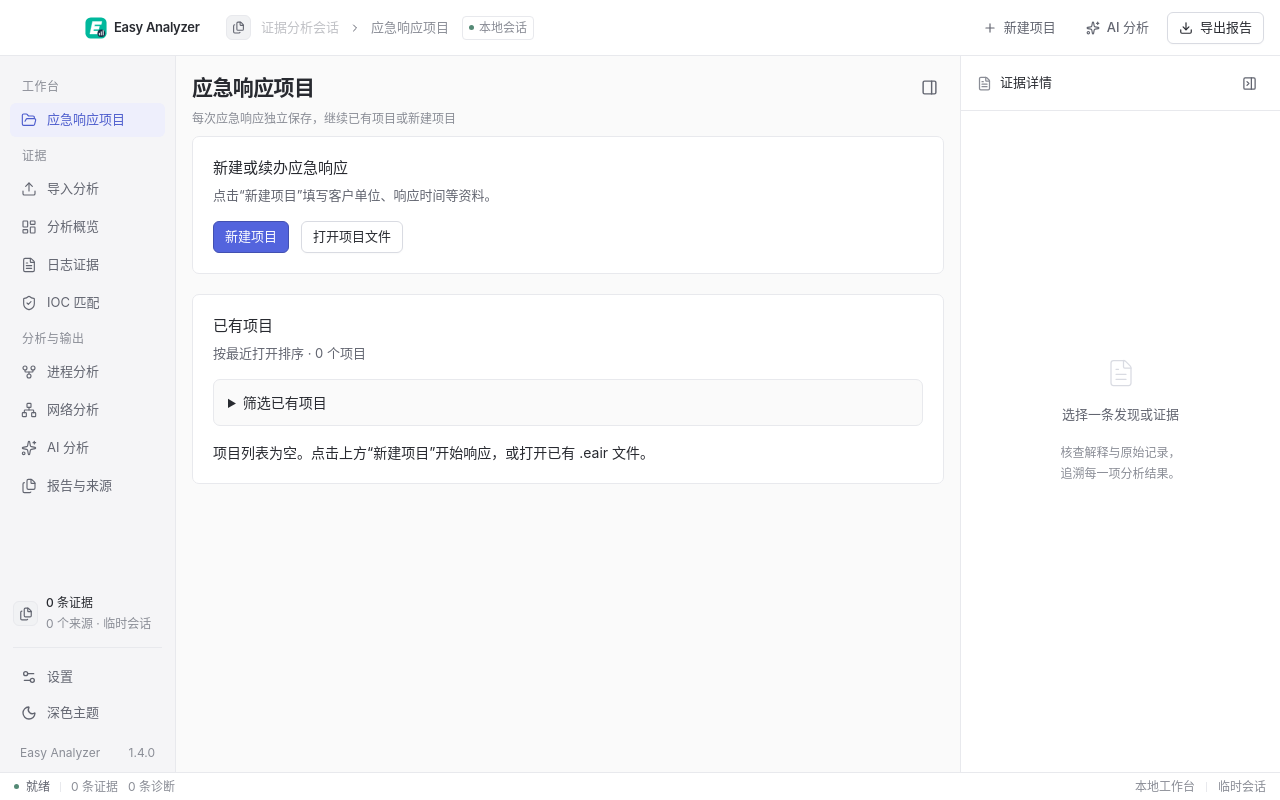
Scenario: shows the local recap after partial AI failure as escaped text without sending again
Click the button "AI 分析" below "分析与输出".
click(88, 448)  # box [10,431,165,465]
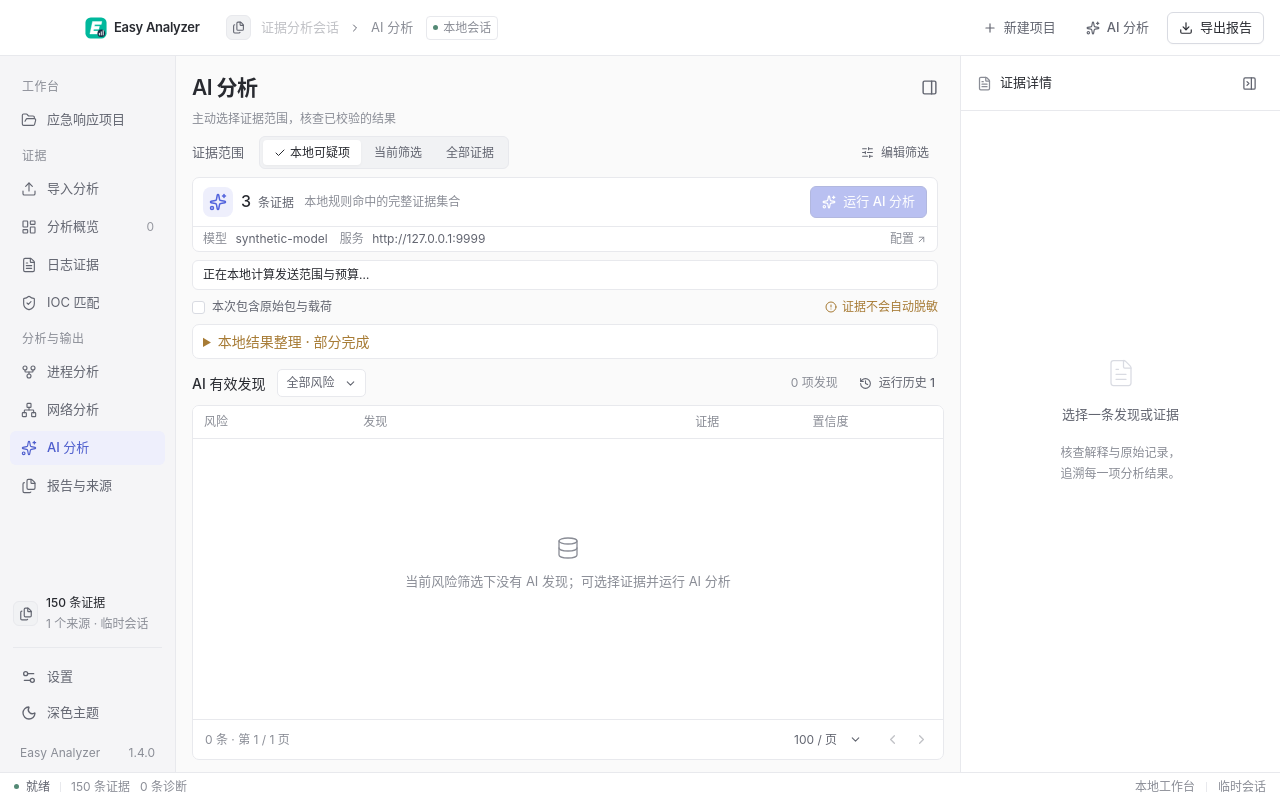
Result: the heading "本地结果整理 · 部分完成" is shown at [218,333,370,350]
Click the button "运行历史 1".
click(897, 383)  # box [850,370,944,396]
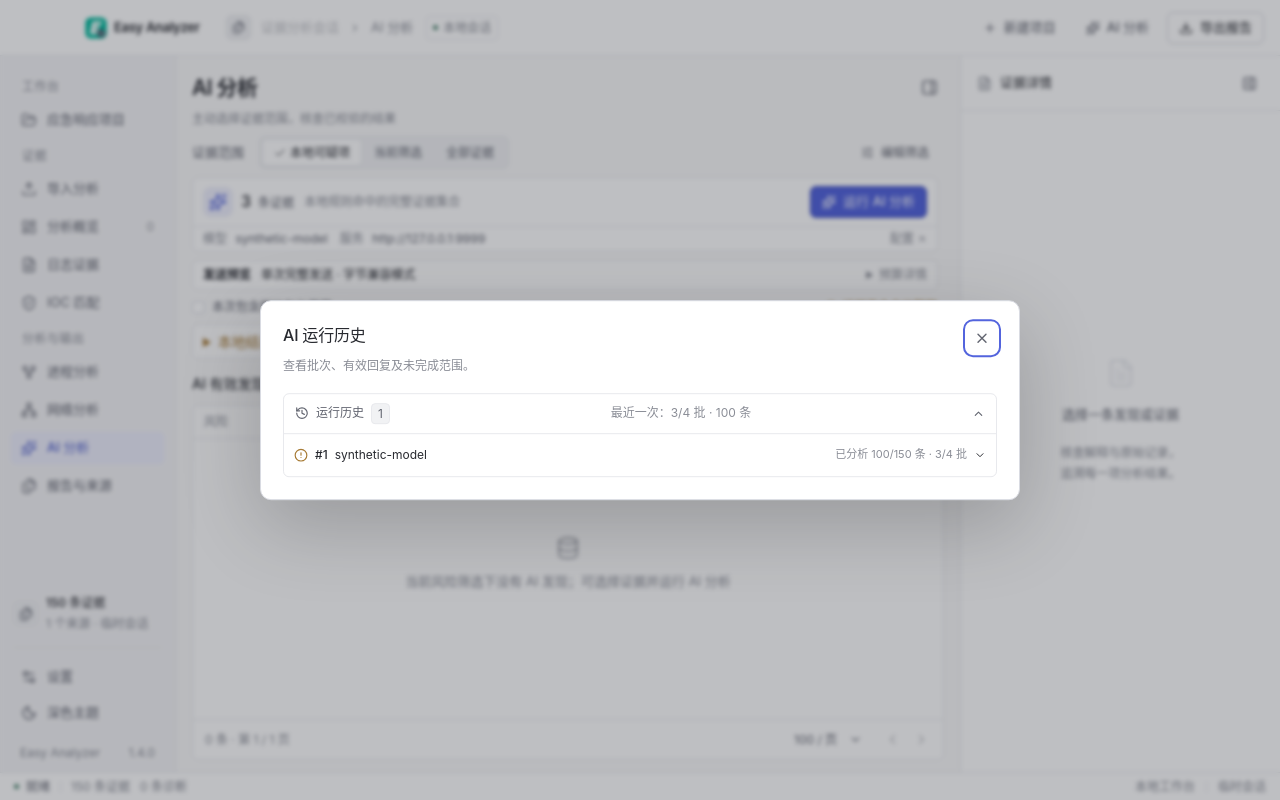
Click the button "#1 synthetic-model 已分析 100/150 条 · 3/4 批".
click(381, 454)  # box [294,439,986,471]
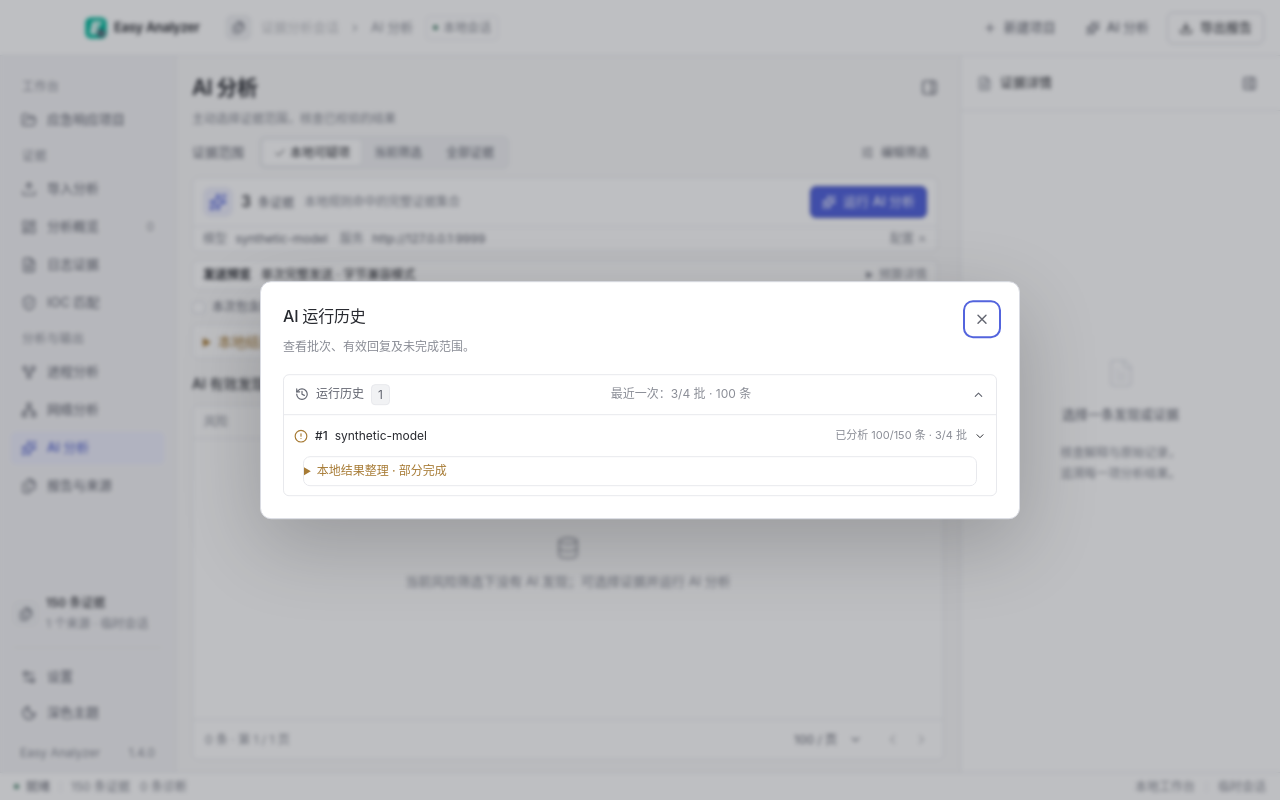
Result: the number of elements with class "local-ai-summary" is 2 at [192,324,938,359]; [303,456,977,486]
